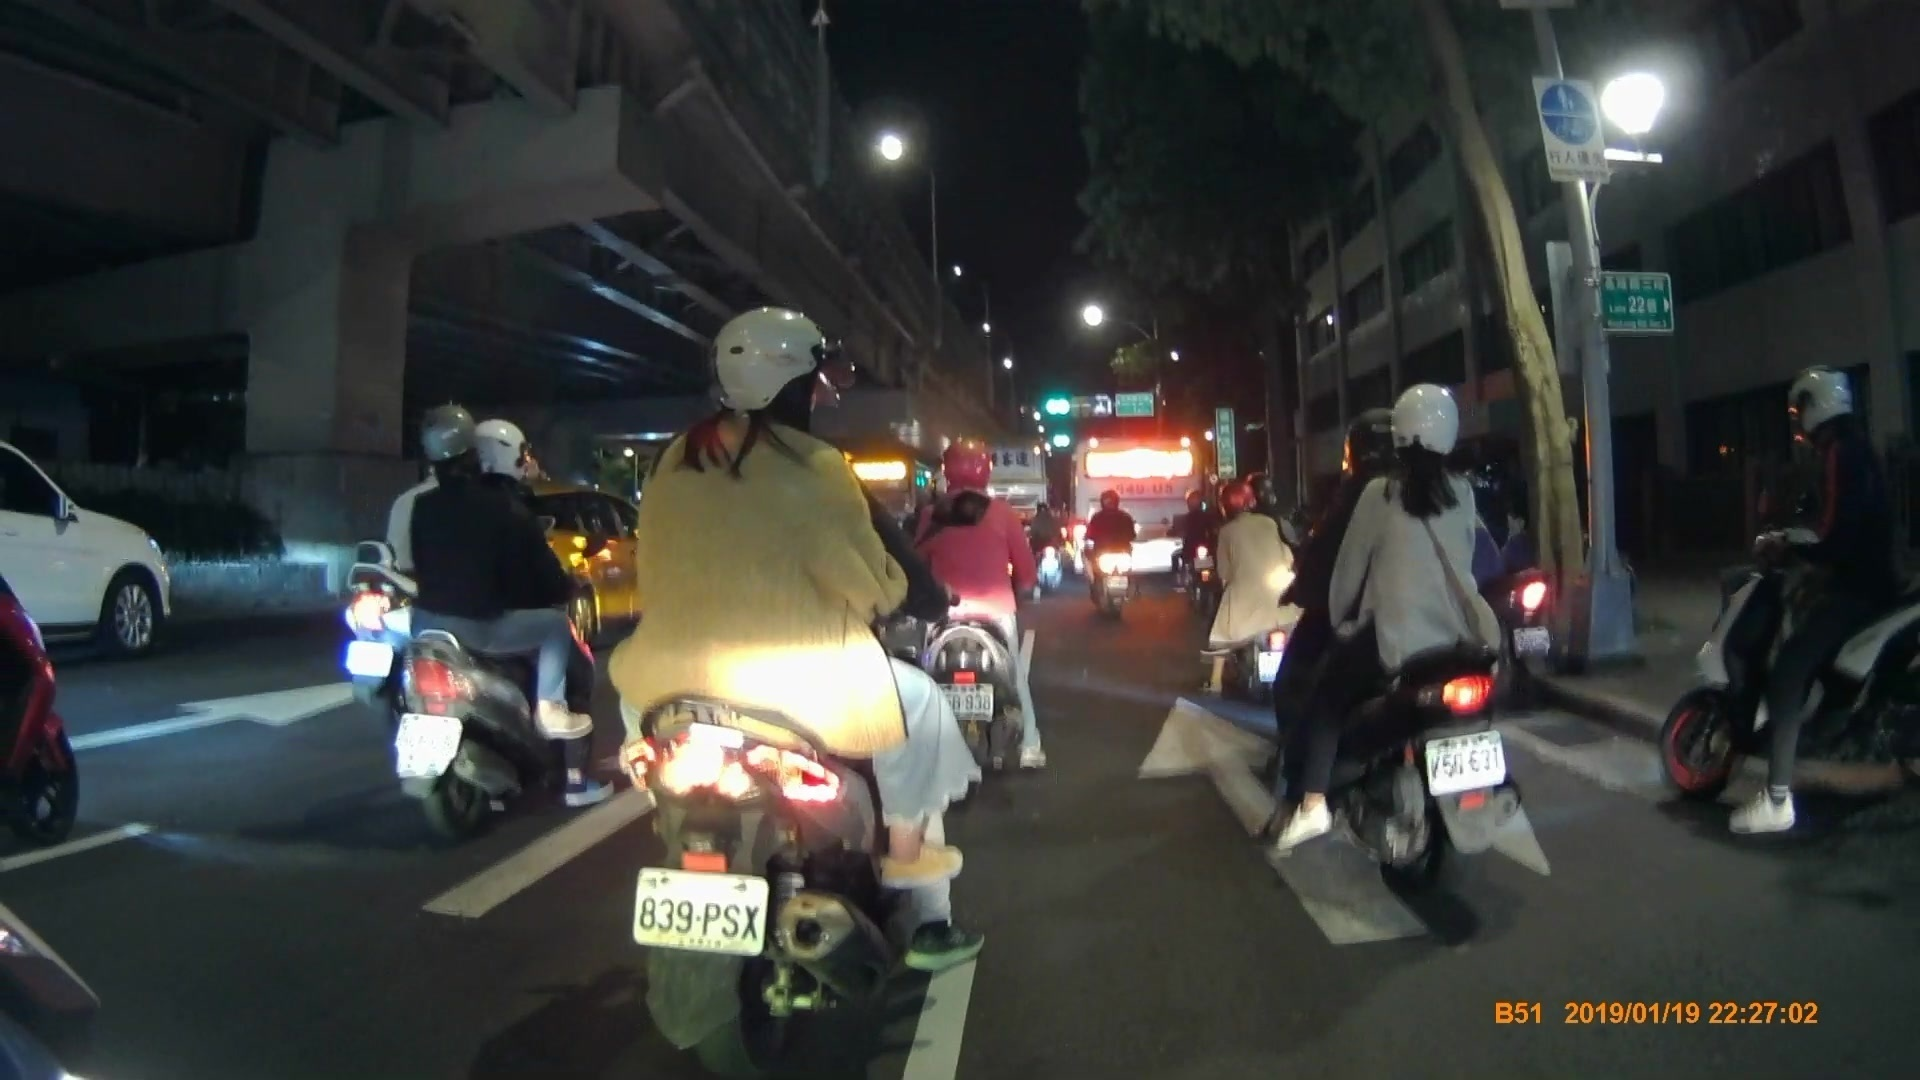License_plate: (631, 864, 771, 954), (1422, 731, 1513, 789), (396, 711, 465, 764), (933, 680, 997, 720)
